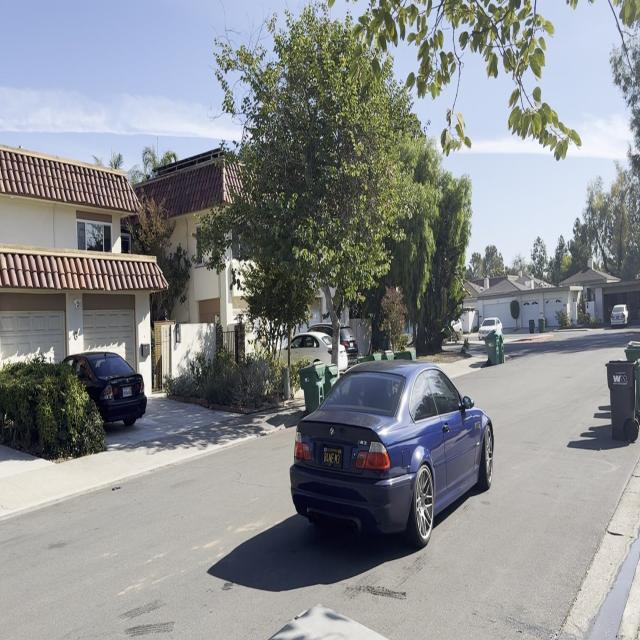Carbeetle: (278, 353, 495, 558)
Civilian: (52, 344, 154, 436), (272, 330, 363, 364), (471, 308, 504, 348), (608, 301, 628, 330)
